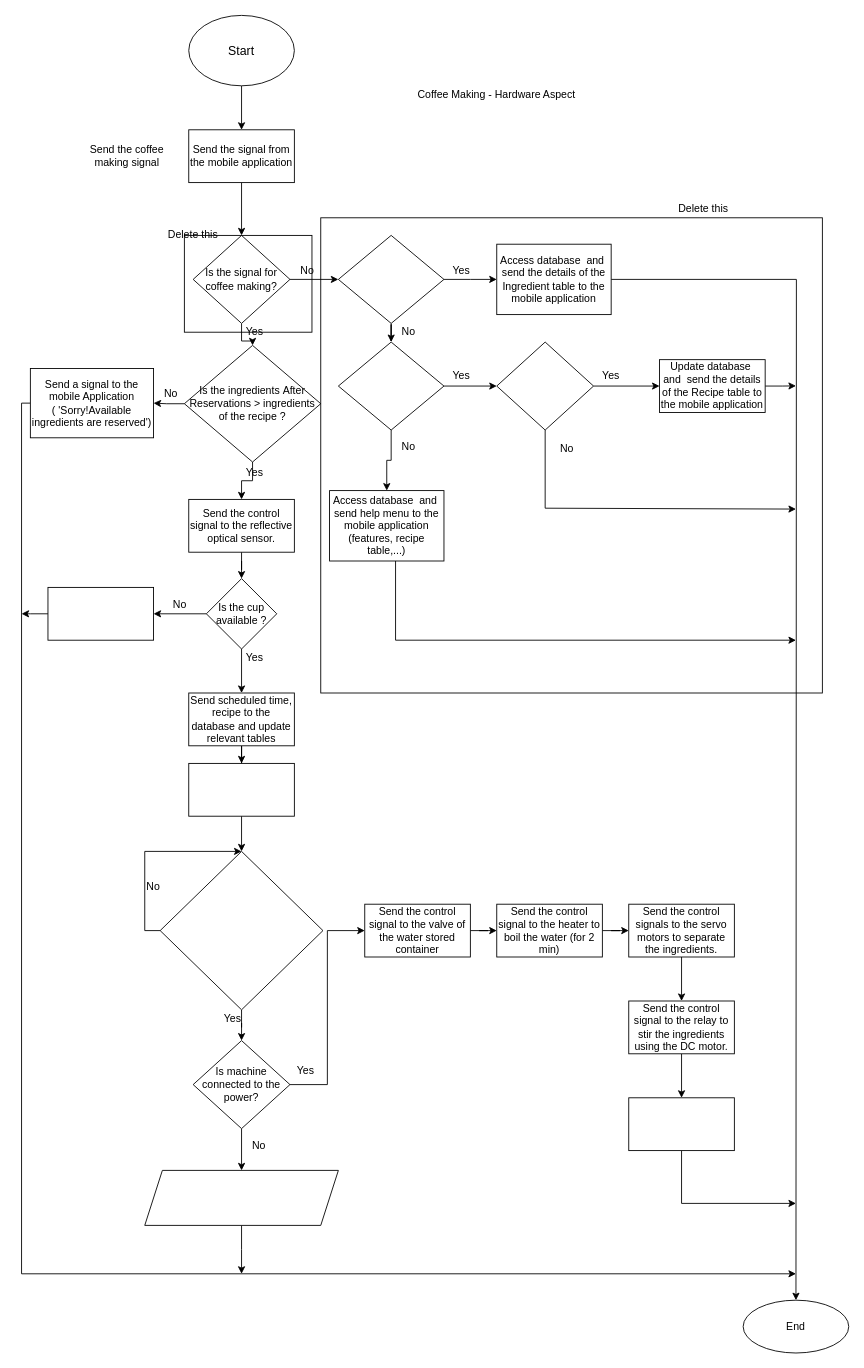
Some shapes in this 864 by 1368 pixel diagram are drawn without their labels. The centre of each missing label's shape, as x and y in pixels:
Display 'Machine is offline,please it to the power': the point at 241,1197
Is the scheduled time - 10 min == current time ?: the point at 241,930
Is the signal for Adding a new recipe?: the point at 545,385
Is the Signal for Favourites ?: the point at 390,385
Is the Signal for Ingredient Tracking?: the point at 390,279
Send a control signal to the microcontroller: the point at 241,789
Send a control signal to the valve to pour the coffee.: the point at 681,1124
Send a signal to the mobile Application ('The cup is unavailable'): the point at 100,613
